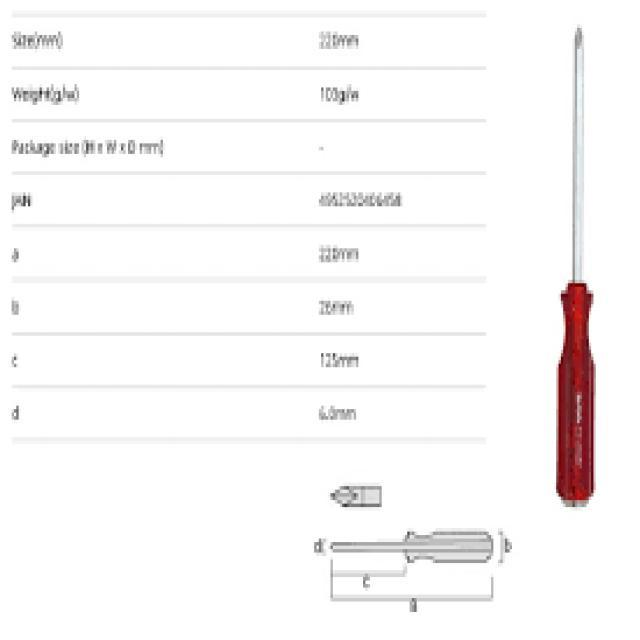screwdriver: (546, 26, 600, 514)
